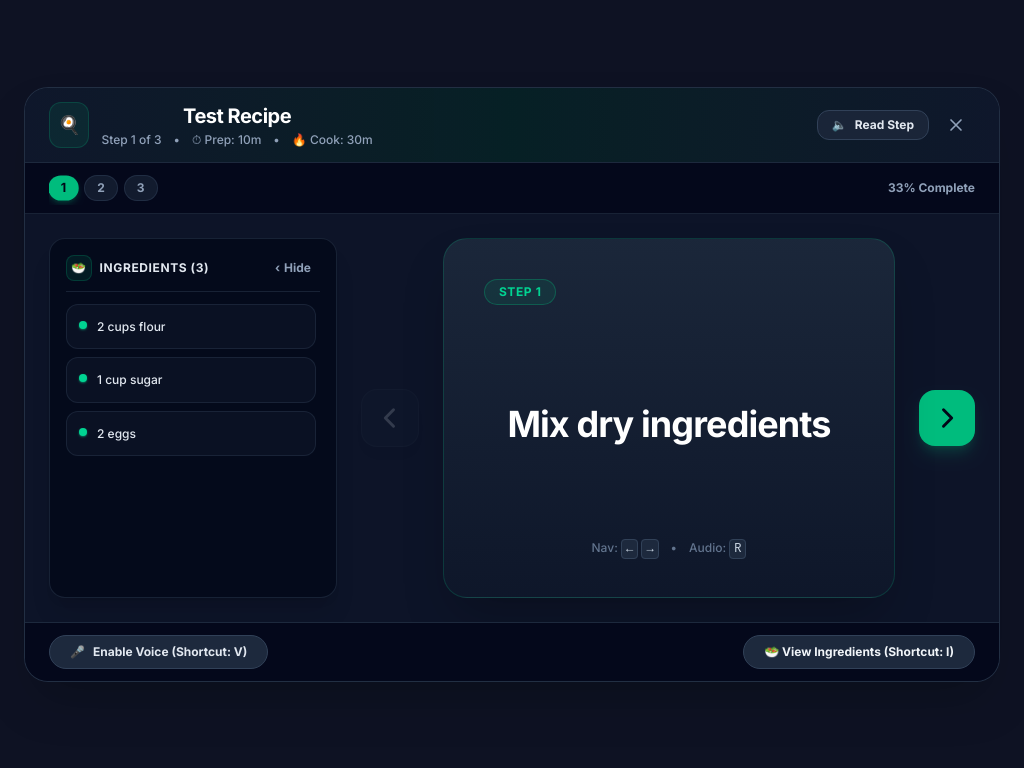
Test: CookingMode › should navigate to previous step
// Go to step 2
What coordinates should you click on to do the following:
click the button titled "Next step"
I would click on:
 (947, 418)
Its box is [919,390,975,446].
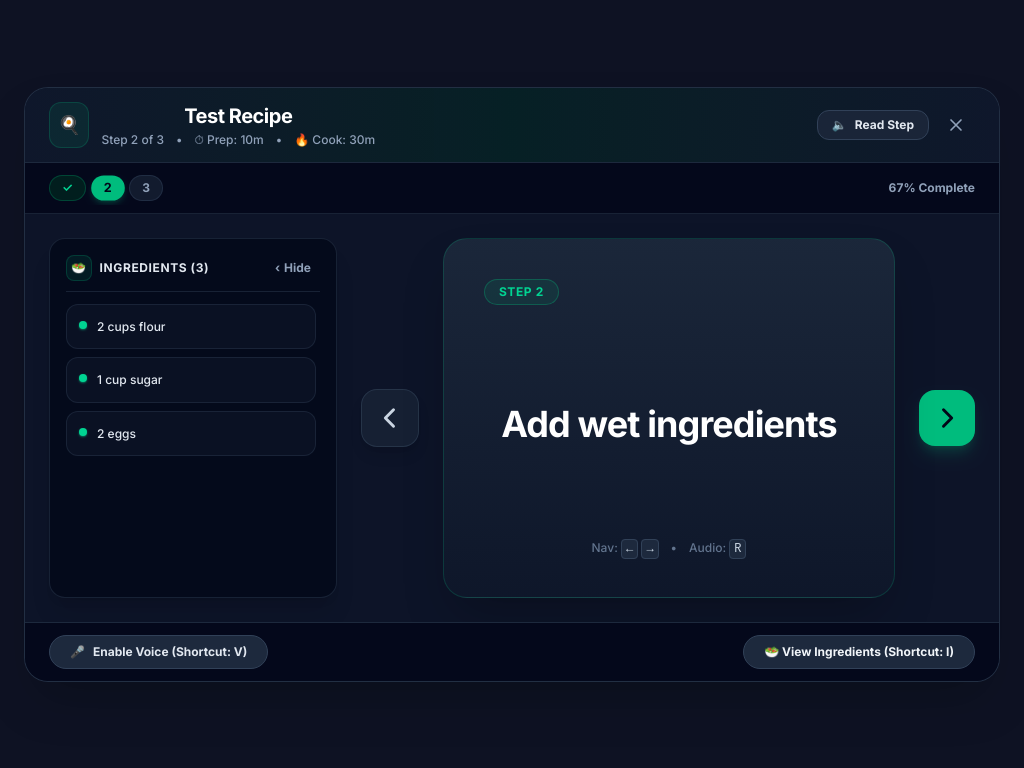
// Go back to step 1
What coordinates should you click on to do the following:
click the button titled "Previous step"
I would click on:
 (390, 418)
Its box is [361,388,419,446].
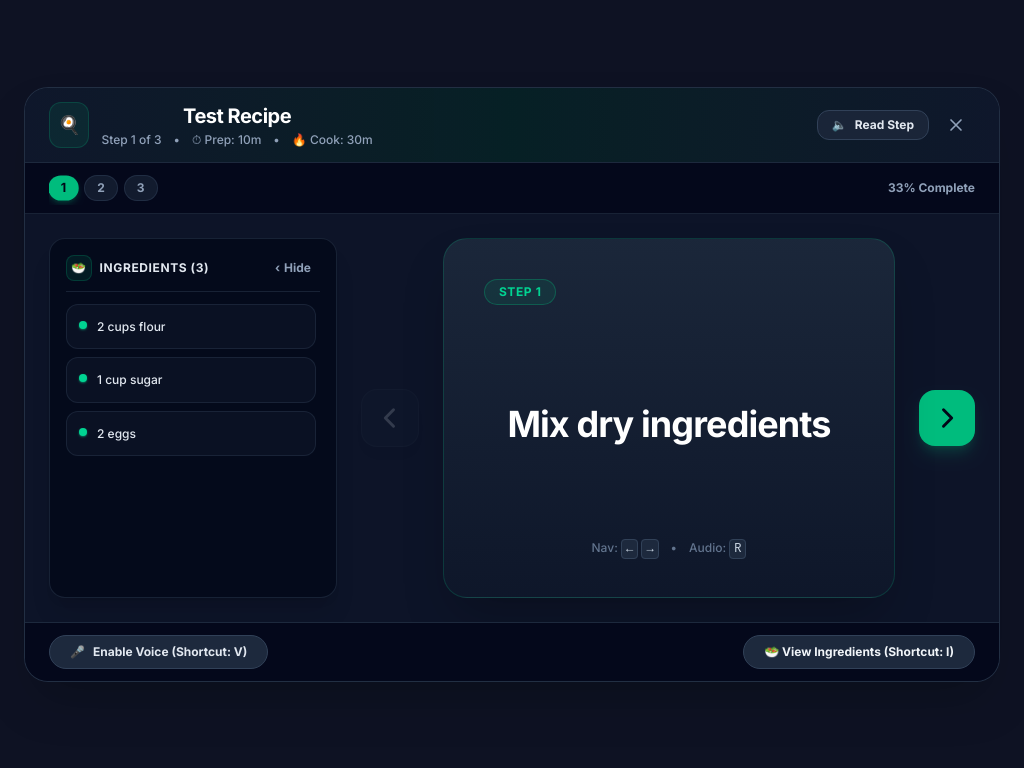
Expected: the text "Step 1 of 3" is shown, [102,132,162,148]
Expected: the text "Mix dry ingredients" is shown, [507,404,831,444]
